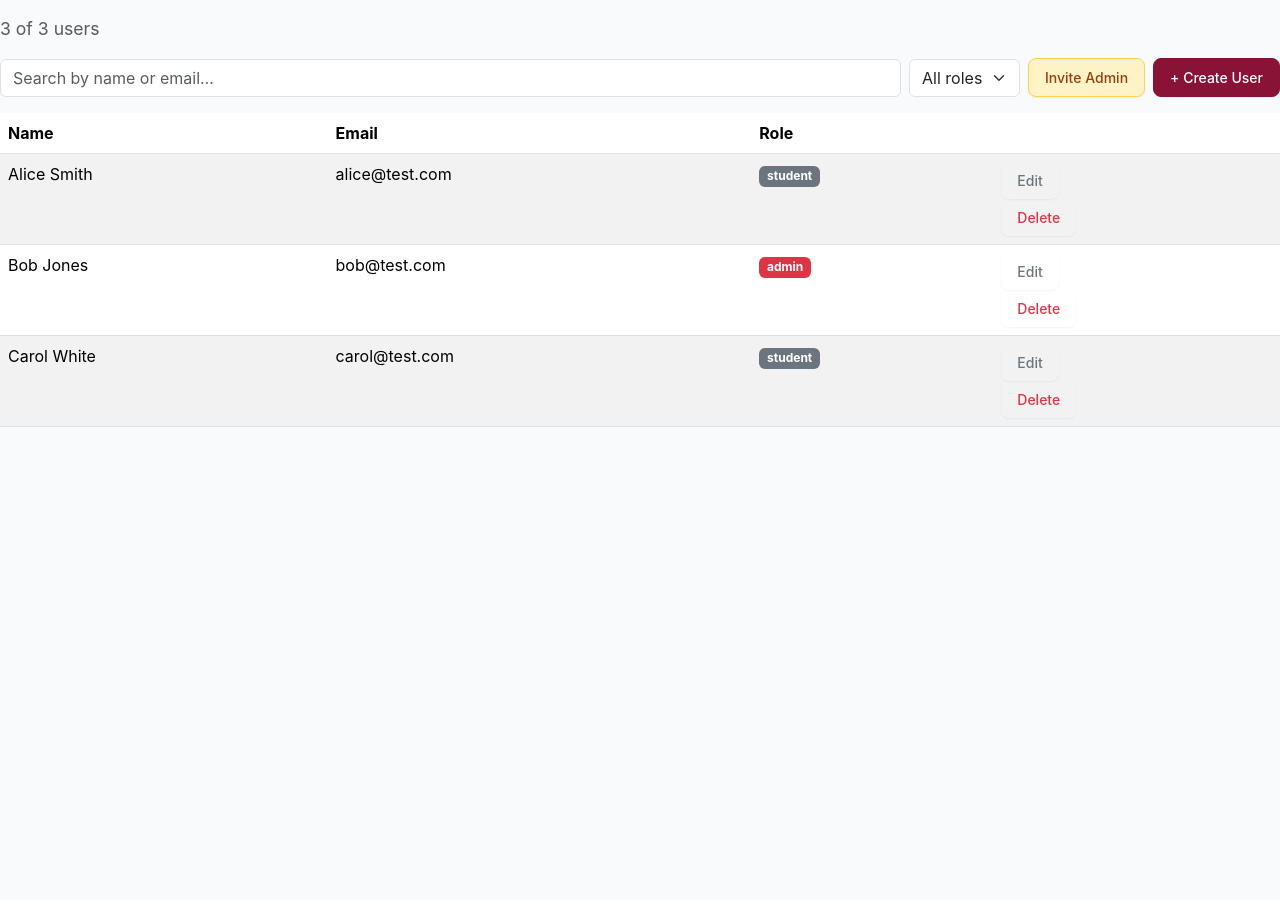
Test: UserManagementTab › opens edit modal when Edit is clicked
Click the button "Edit" in the row of "Alice Smith" at (1030, 181), box [1001, 162, 1059, 199]
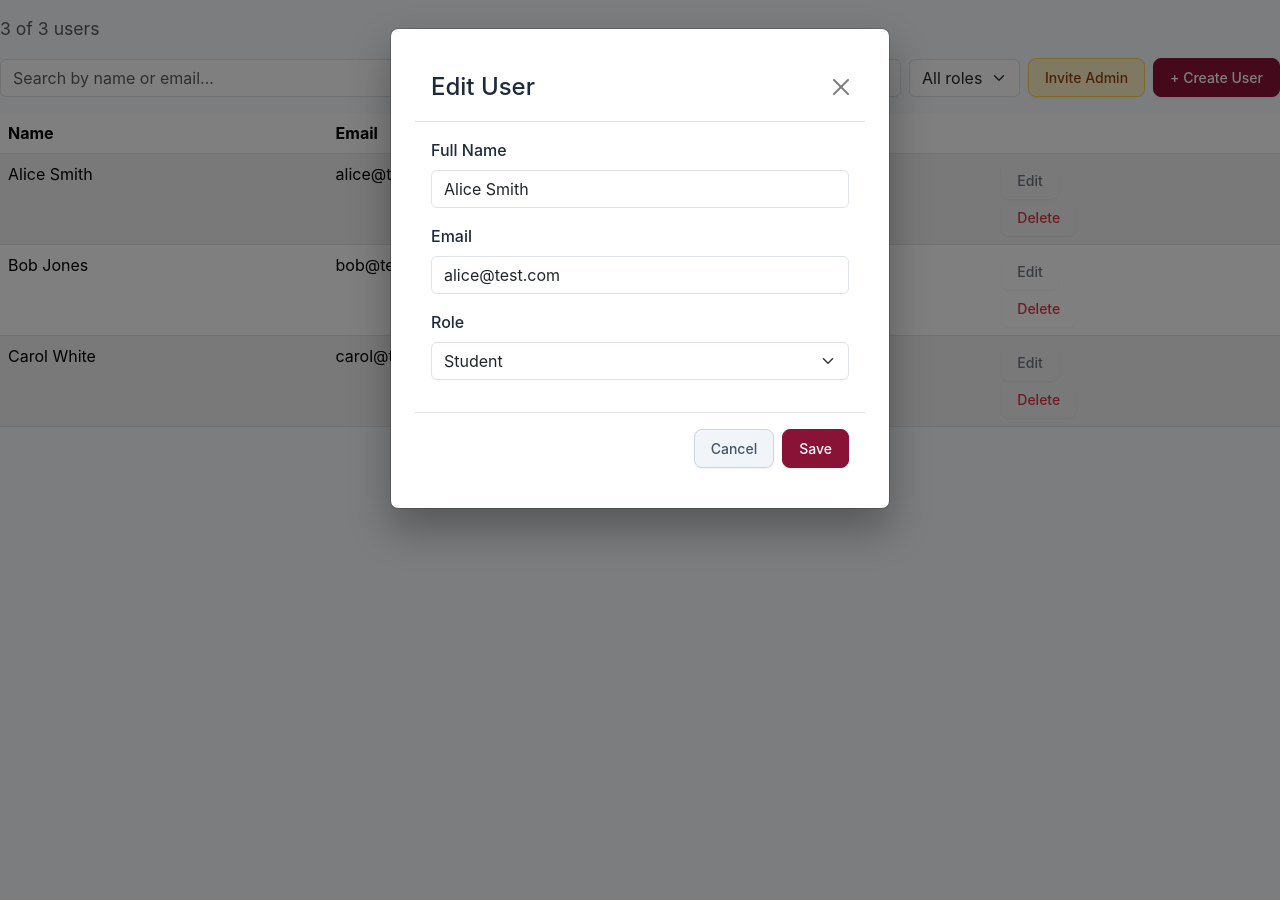
Now the text "Edit User" is shown, box [431, 69, 535, 105]
